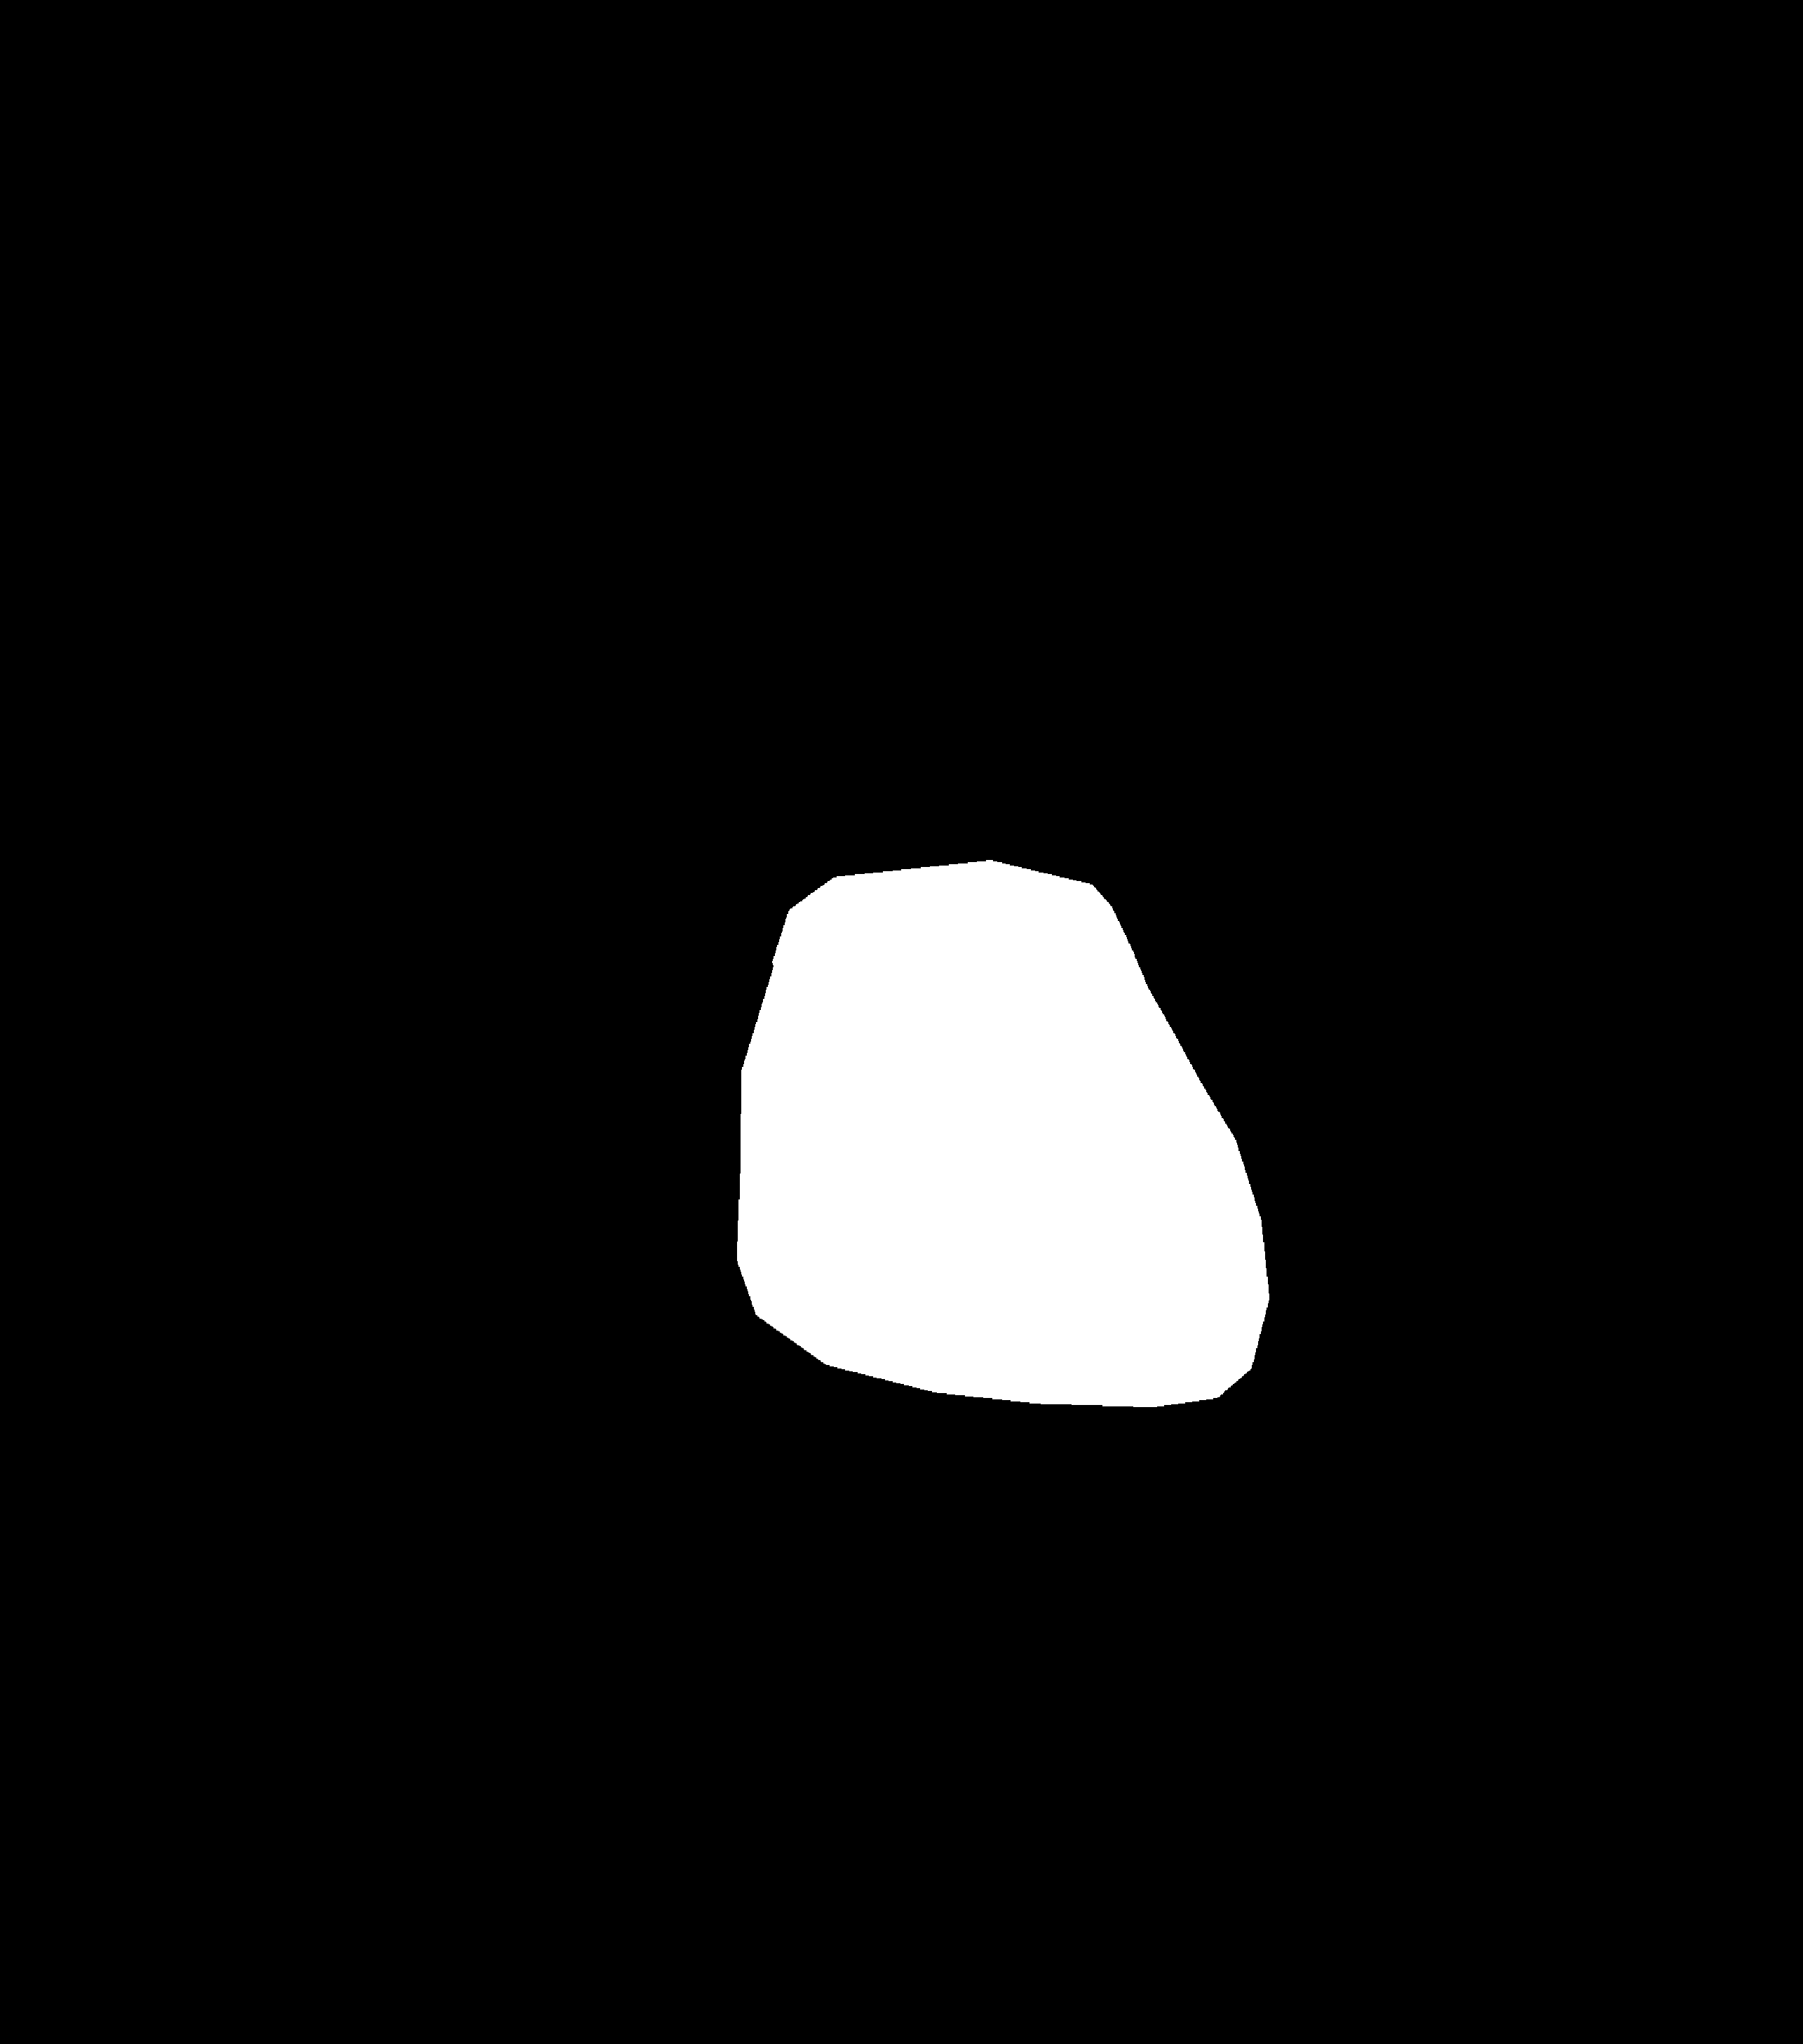heart: (738, 1015, 1265, 1511)
left_lung: (261, 256, 868, 1624)
right_lung: (978, 270, 1558, 1640)
